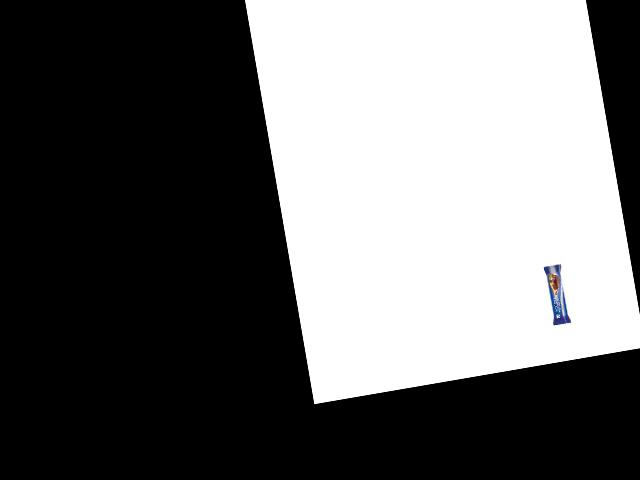chocolate: (536, 256, 572, 327)
